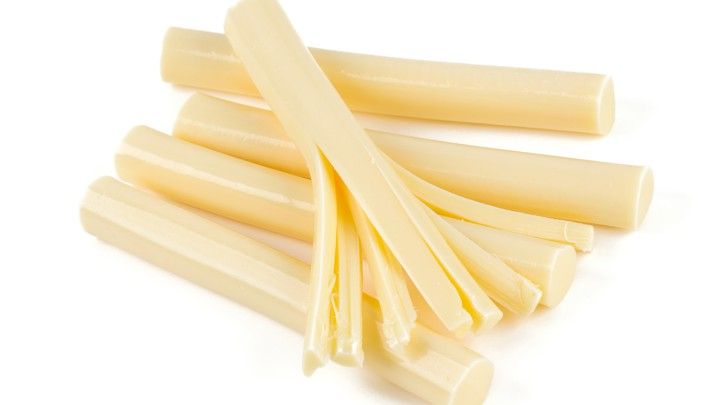cheese: (219, 5, 477, 313), (467, 70, 669, 278), (352, 223, 522, 389), (82, 147, 266, 274)
